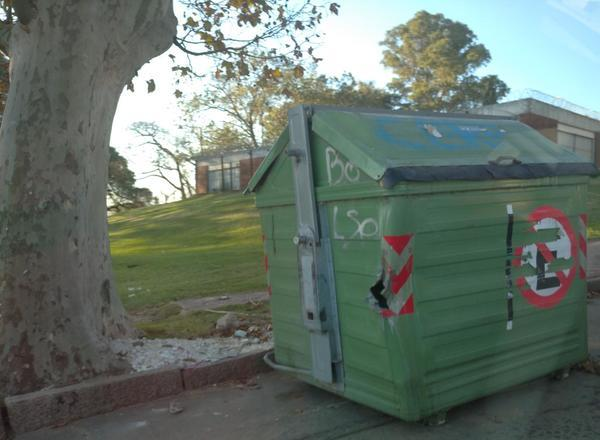Trash: (244, 106, 599, 420)
